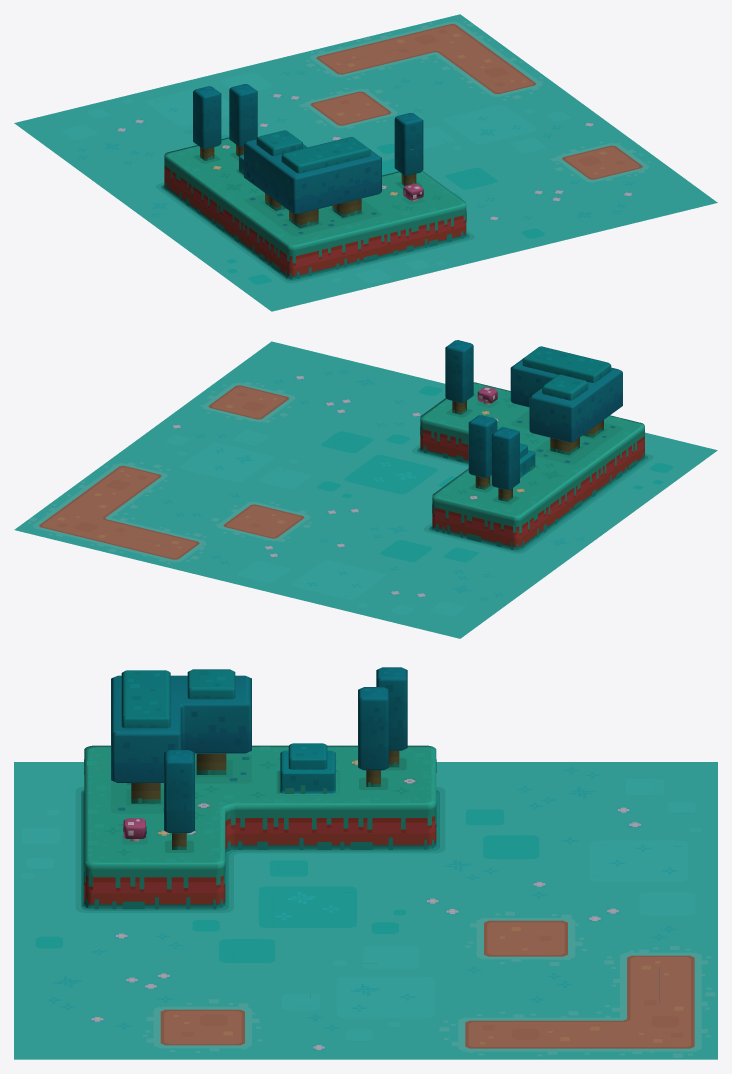
File: C_forest1_05.fbx
3 renders of one model, top to bottom at view 1: azimuth 30°, elevation 25°; view 2: azimuth 150°, elevation 25°; view 3: azimuth 270°, elevation 25°, orthographic. The views are drawn at different scales.
Parts seen in each view (by area): view 1: C_forest1_05.002; view 2: C_forest1_05.002; view 3: C_forest1_05.002.
Part boxes in pixels (x1,y1,x2,y2): C_forest1_05.002: [14, 14, 717, 311]; C_forest1_05.002: [14, 340, 717, 638]; C_forest1_05.002: [14, 667, 717, 1059].
Bounding box in the file's own units: 50 × 10.9 × 50.
